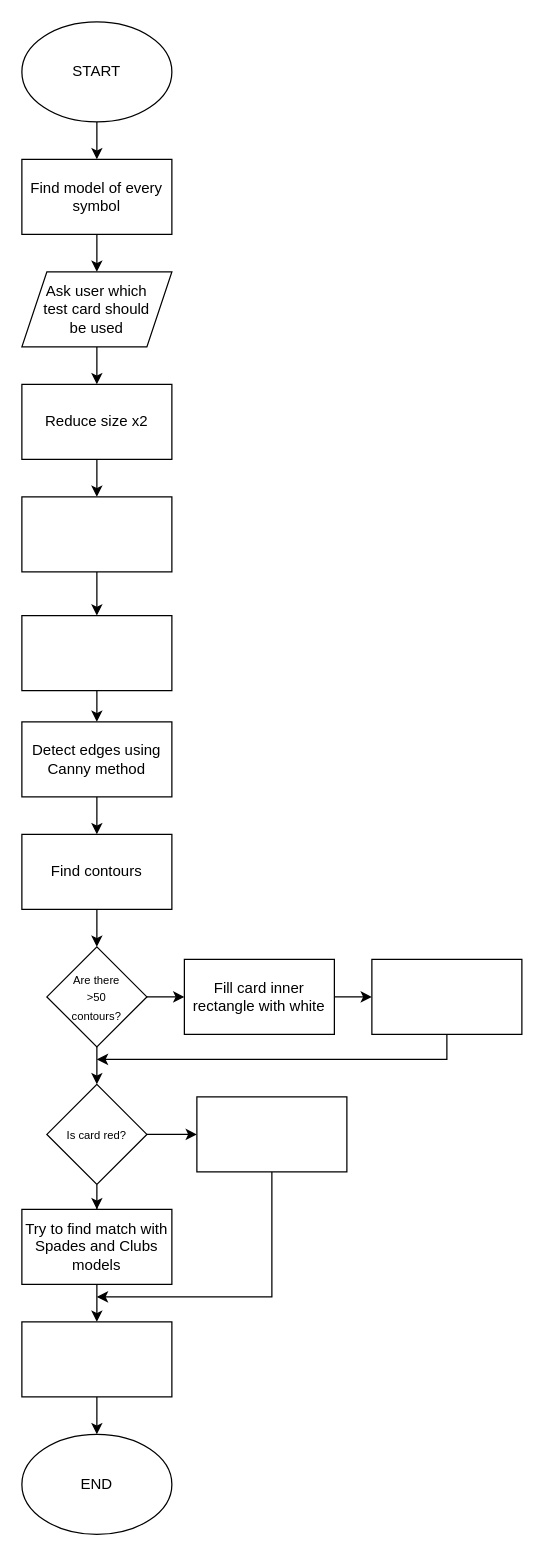
The diagram is 544 pixels wide and 1556 high, and some of its shapes have lost their labels. Here are the shapes that lost their labels. From the top down, the centre of each, then its label:
[96,534]: Convert to grayscale
[96,652]: Blur image
[446,996]: Find edges and contours
[271,1134]: Try to find match with Hearts and Diamonds models
[96,1359]: Try to match every contour with number model
